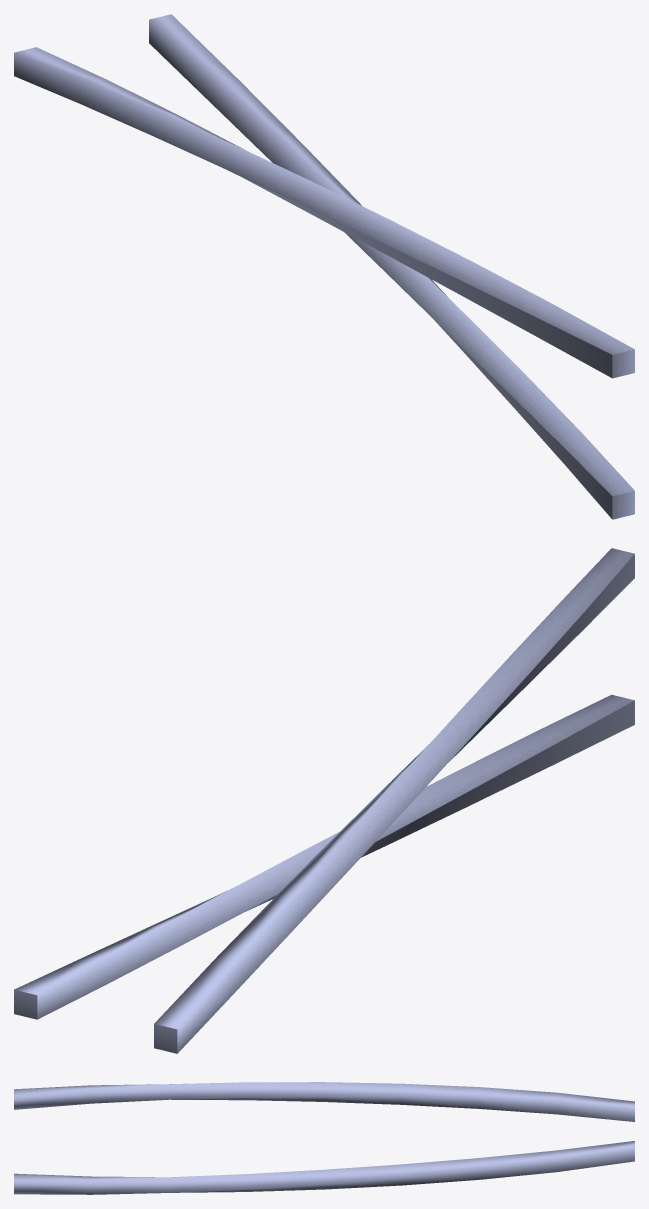
The model's file is railroad-rail-straight-skew-left-side.glb.
The picture shows the model from 3 angles, top to bottom: view 1: azimuth 30°, elevation 25°; view 2: azimuth 150°, elevation 25°; view 3: azimuth 270°, elevation 25°; orthographic projection. The views are drawn at different scales.
Parts seen in each view (by area): view 1: railroad-rail-straight-skew-left-side; view 2: railroad-rail-straight-skew-left-side; view 3: railroad-rail-straight-skew-left-side.
Part boxes in pixels (x1=…): railroad-rail-straight-skew-left-side: x1=14, y1=14, x2=634, y2=519; railroad-rail-straight-skew-left-side: x1=14, y1=548, x2=634, y2=1053; railroad-rail-straight-skew-left-side: x1=14, y1=1082, x2=634, y2=1194.
Bounding box in the file's own units: 0.7136 × 0.7136 × 4.
1 material, 1 textured.
